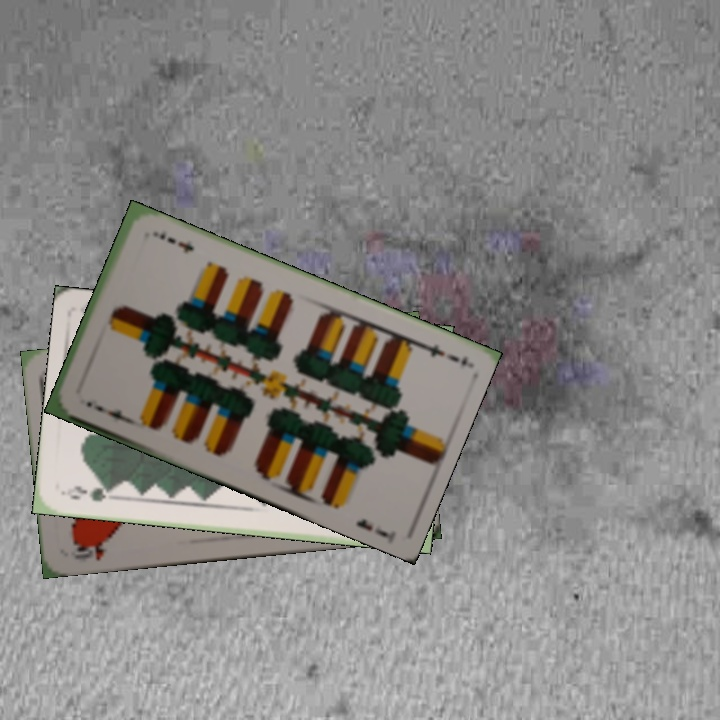E7: (82, 397, 132, 426), (412, 337, 462, 365)
G9: (59, 482, 119, 504)
HO: (70, 536, 112, 564)
